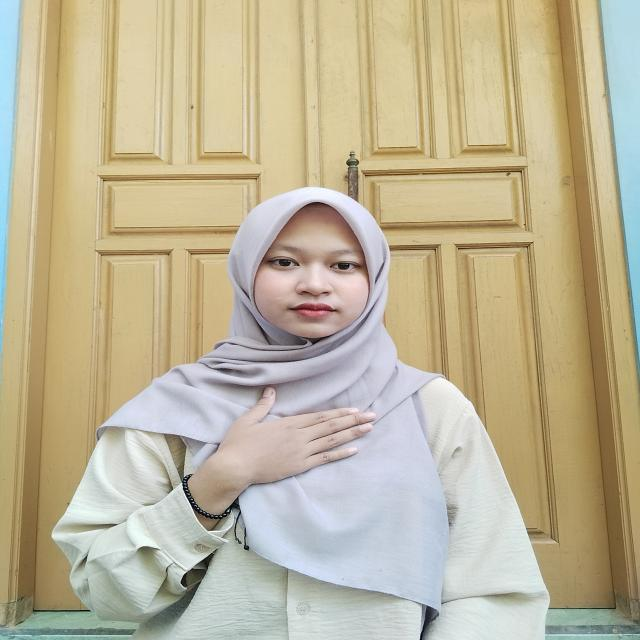tolong: (183, 376, 380, 520)
